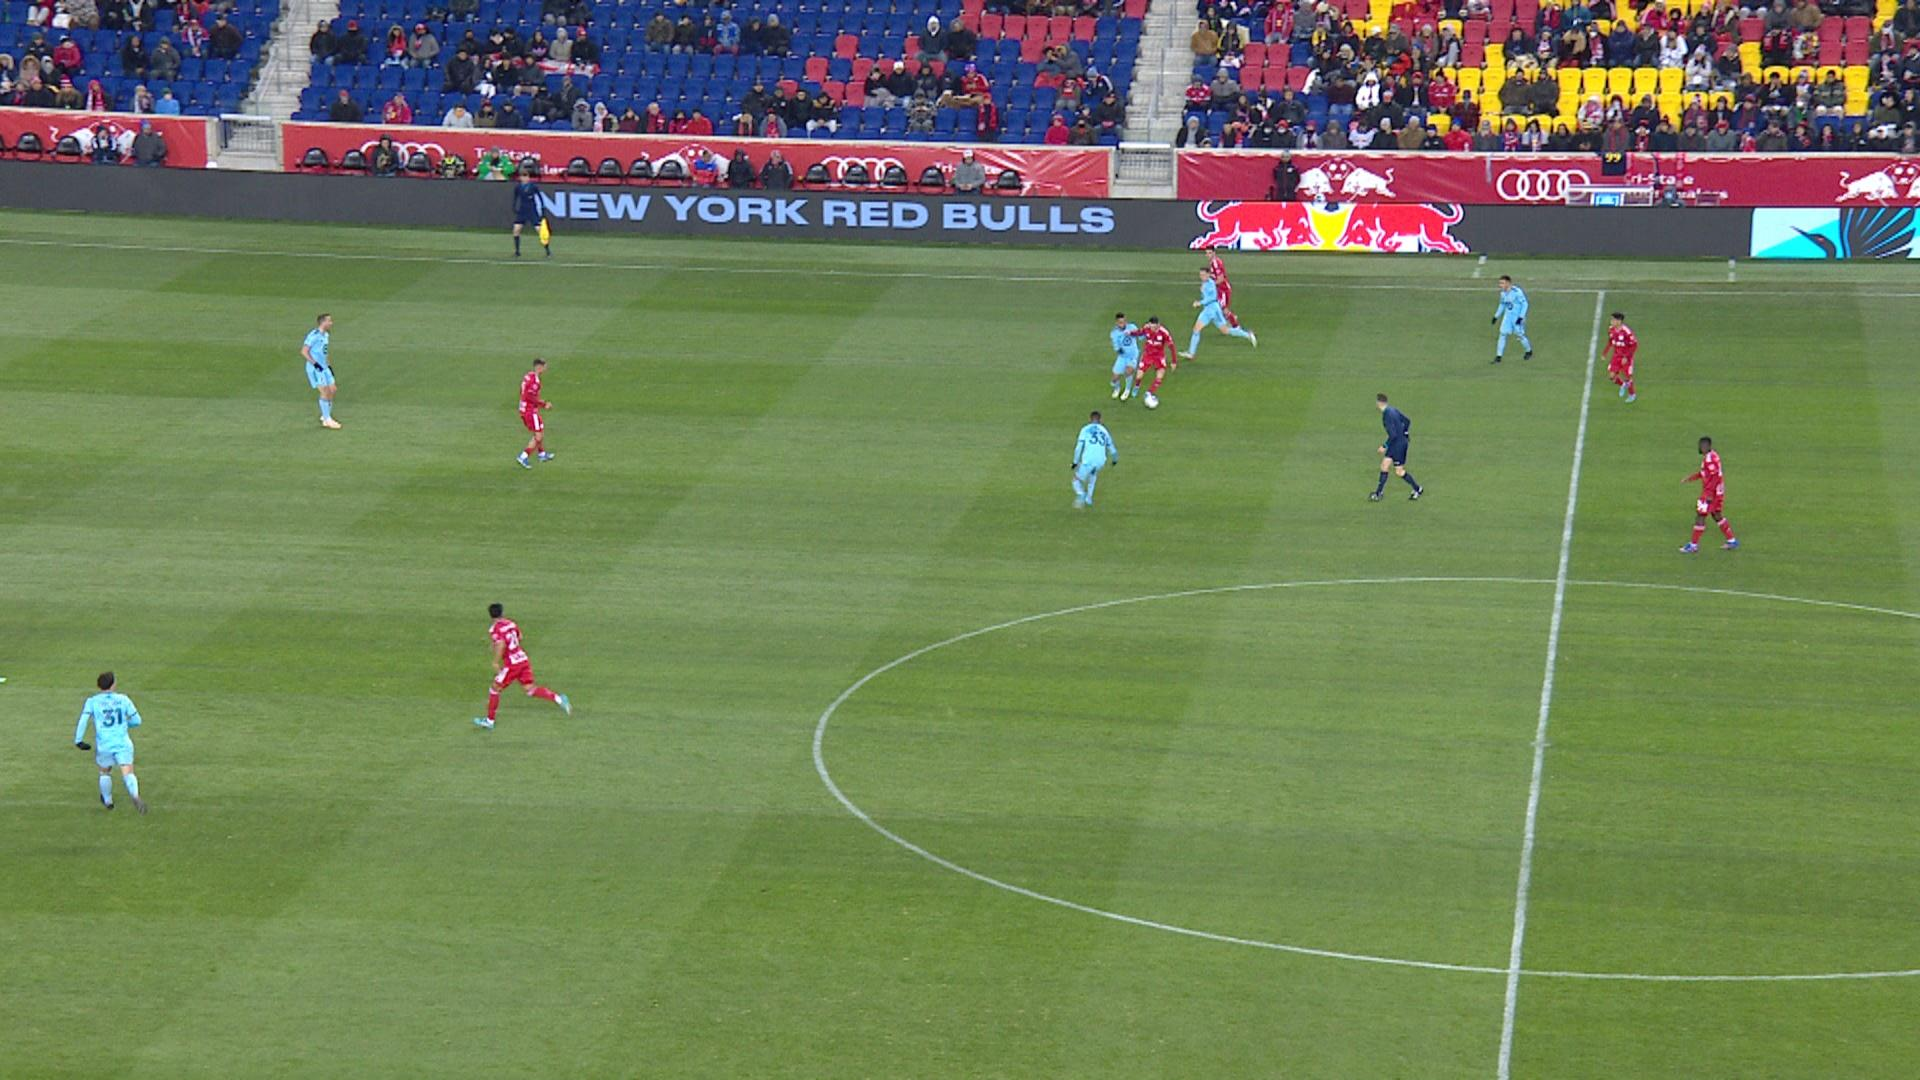football: (1145, 395, 1160, 409)
